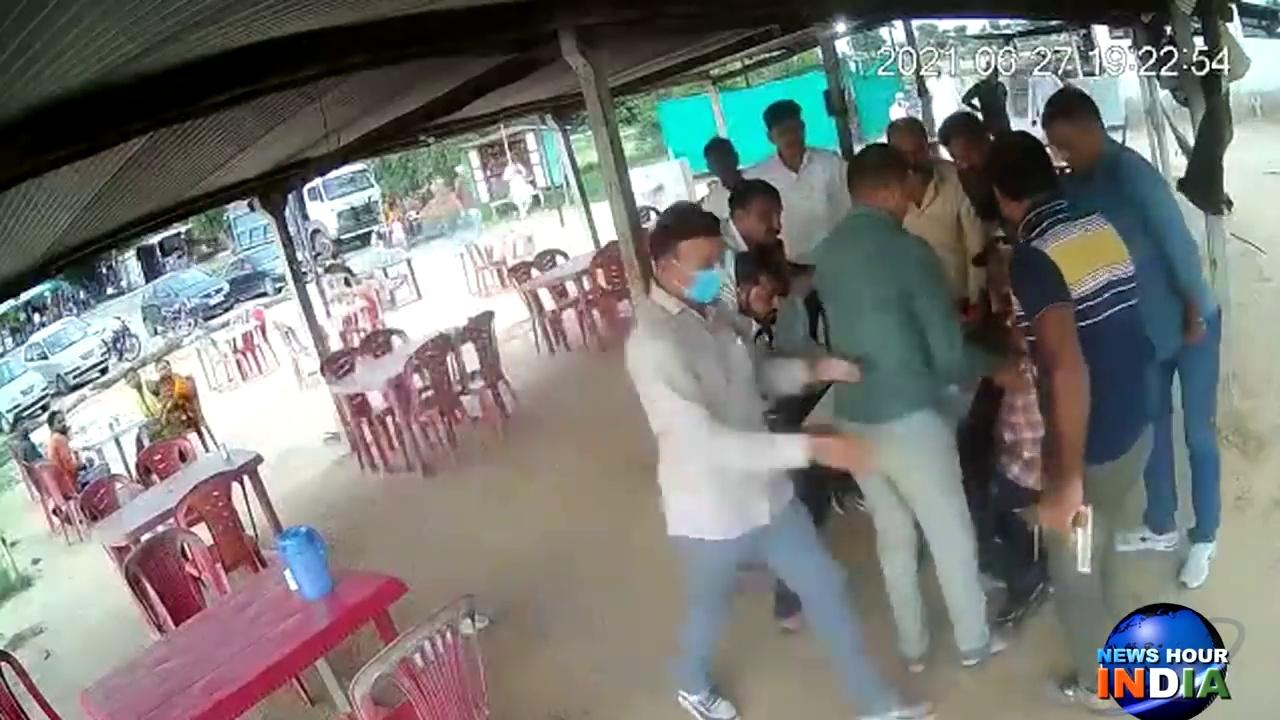weapon: (1024, 495, 1109, 581)
